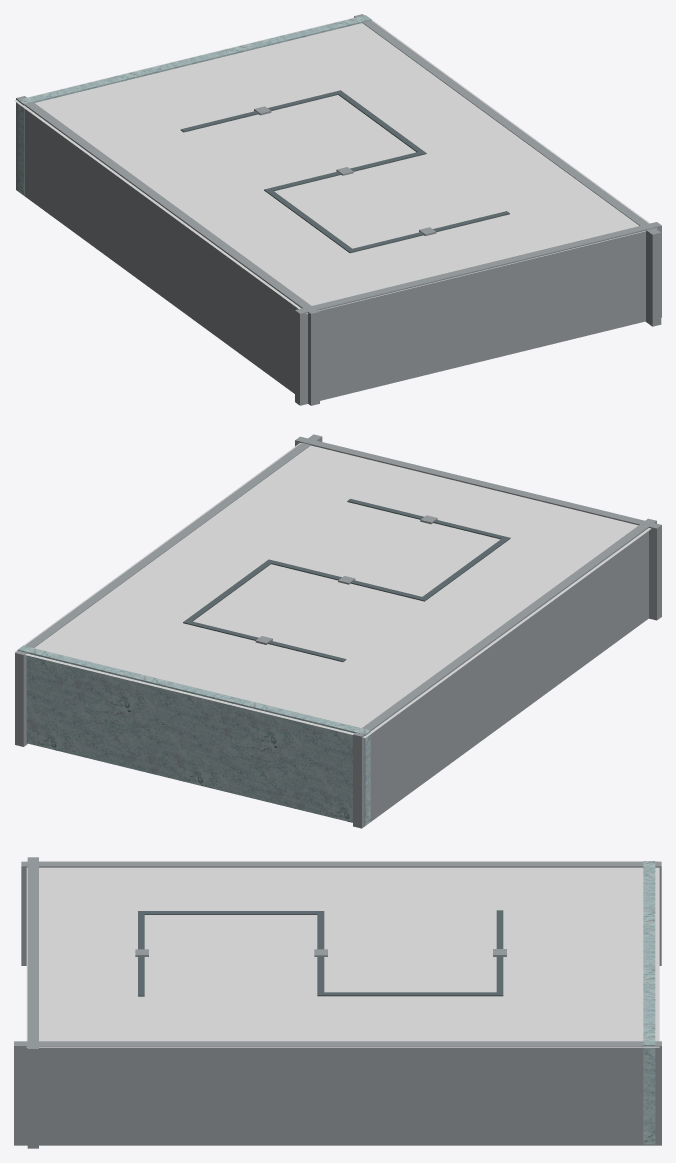
File: room.glb
3 views of the same model, one above another, from view 1: azimuth 30°, elevation 25°; view 2: azimuth 150°, elevation 25°; view 3: azimuth 270°, elevation 25° (orthographic). The views are drawn at different scales.
Parts seen in each view (by area): view 1: RM_CEILING, RM_WALLS, CUBE, PAR_01, PAR_02; view 2: RM_CEILING, RM_WALLS, CUBE, PAR_01, PAR_02; view 3: RM_CEILING, RM_WALLS, CUBE, PAR_02, PAR_01.
Part boxes in pixels (bbox=[...]): RM_CEILING: bbox=[14, 15, 656, 313]; RM_WALLS: bbox=[16, 14, 661, 405]; CUBE: bbox=[18, 15, 371, 195]; PAR_01: bbox=[264, 171, 509, 253]; PAR_02: bbox=[180, 90, 426, 171]; RM_CEILING: bbox=[14, 443, 651, 737]; RM_WALLS: bbox=[15, 434, 661, 828]; CUBE: bbox=[17, 645, 370, 825]; PAR_01: bbox=[347, 498, 510, 601]; PAR_02: bbox=[183, 559, 346, 661]; RM_CEILING: bbox=[26, 861, 659, 1047]; RM_WALLS: bbox=[14, 857, 661, 1148]; CUBE: bbox=[643, 861, 655, 1144]; PAR_02: bbox=[317, 910, 503, 996]; PAR_01: bbox=[138, 911, 324, 996].
Bounding box in the file's own units: 16.47 × 4.06 × 23.54.
Materials: 73 (2 with a texture image).
